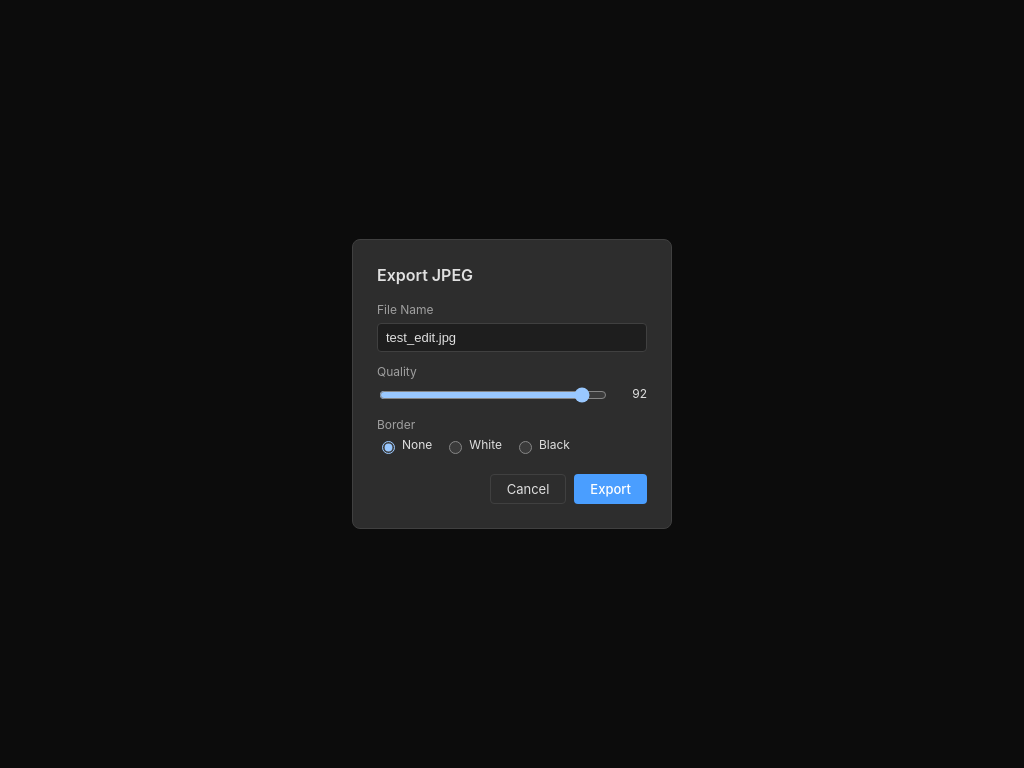
Scenario: ExportDialog › shows border width slider when border is selected
Expected: the text "Border Width (%)" is not shown
Select 'White' border
Step 1. Click the radio button labelled "White" → (456, 447), box x1=449 y1=441 x2=462 y2=454
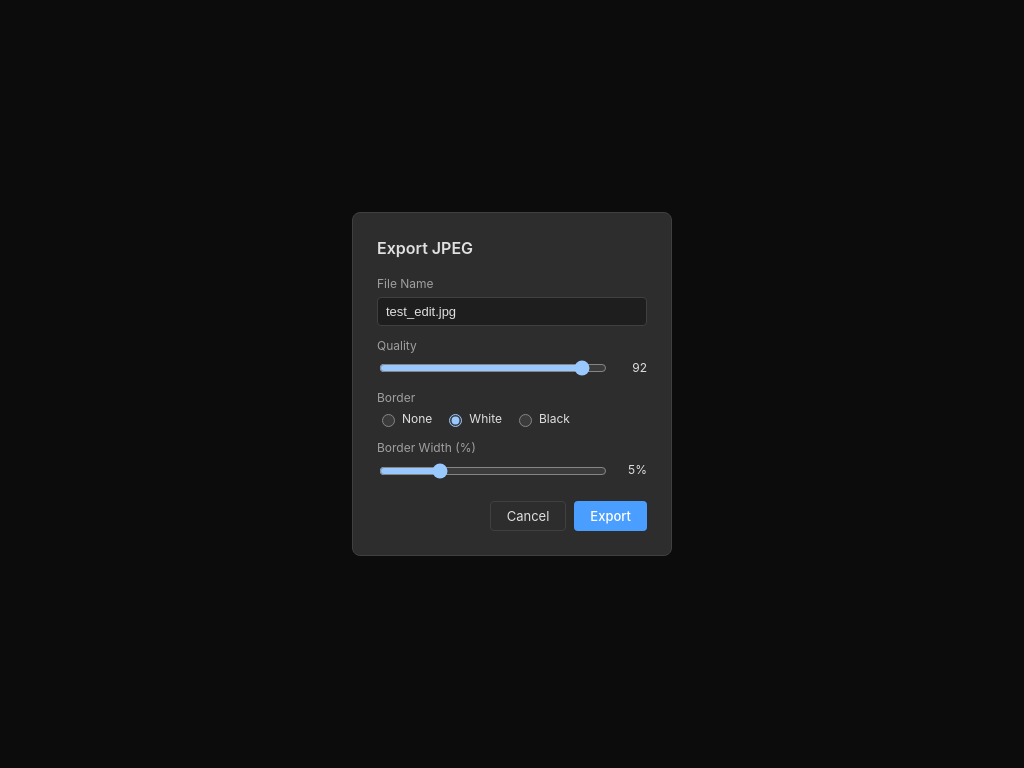
Expected: the text "Border Width (%)" is shown, x1=377 y1=440 x2=476 y2=455
